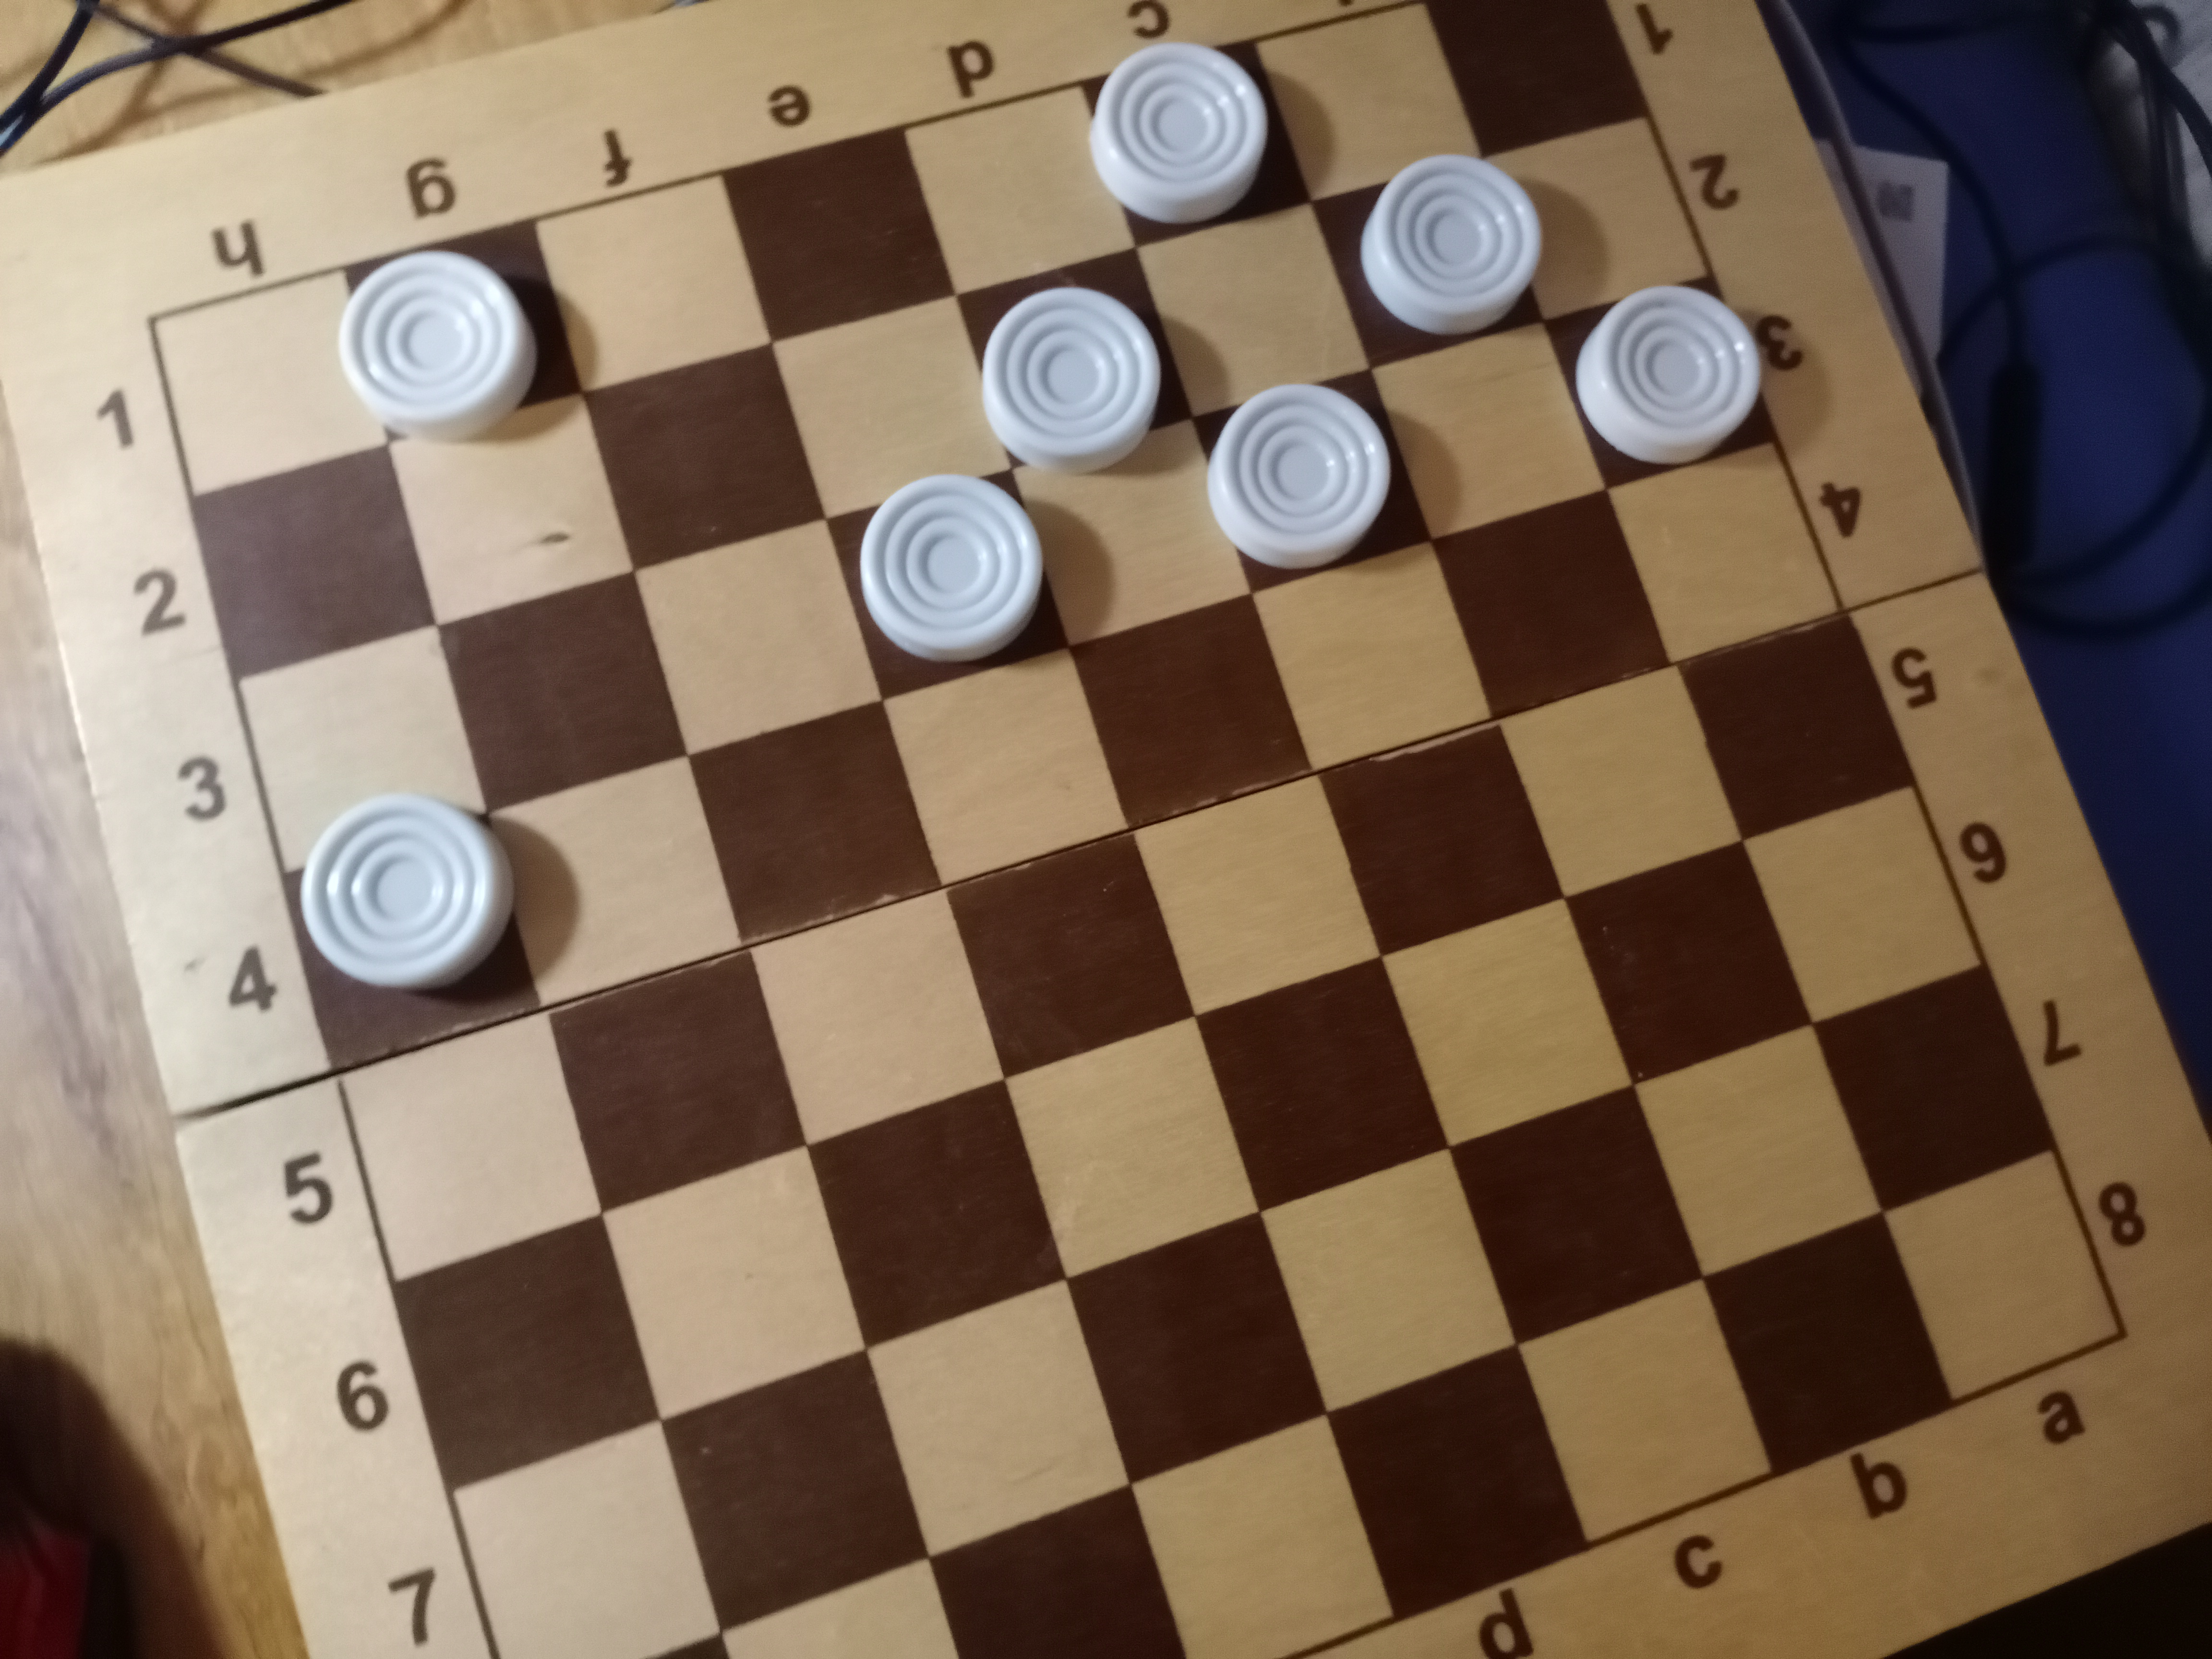White_Draught: (280, 793, 540, 1070), (827, 471, 1066, 702), (336, 221, 583, 444), (956, 249, 1191, 476), (1191, 369, 1430, 592), (1310, 155, 1545, 371), (1543, 277, 1773, 488), (1089, 44, 1310, 251)
